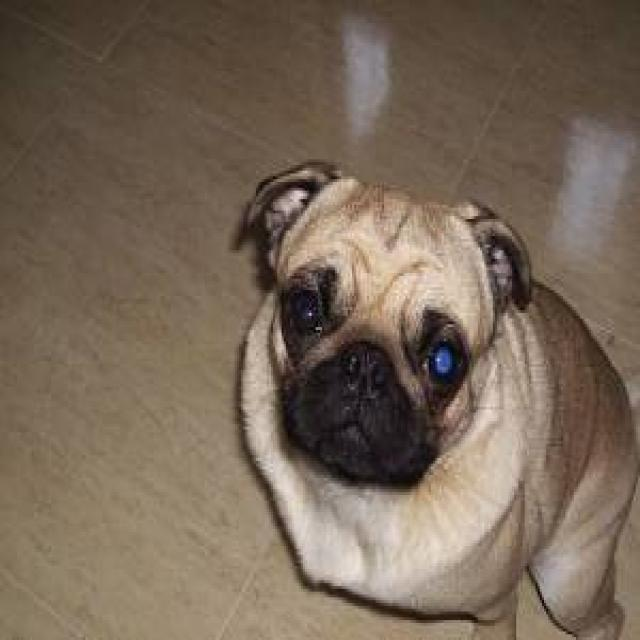dog-pug: (228, 145, 636, 634)
